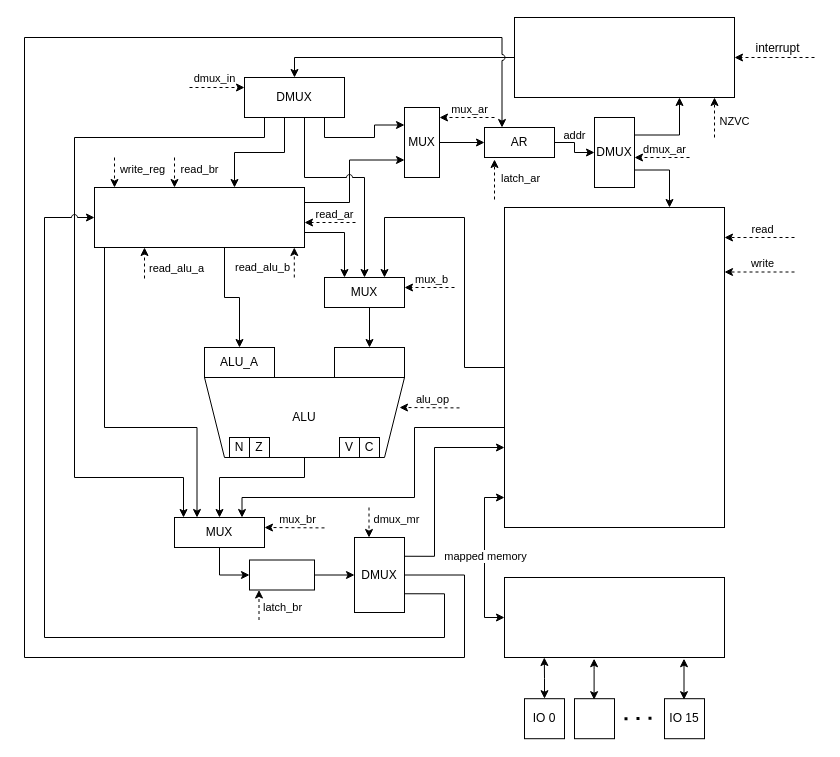
This 840x757 diagram has some shape labels left out. The shapes that lost their labels are listed below. From the top down, each one's centre as x and y in pixels, then its label:
At pixel 624 57: "Control Unit".
At pixel 199 217: "Register File".
At pixel 369 362: "ALU_B".
At pixel 614 367: "Memory".
At pixel 281 574: "BR".
At pixel 614 617: "IO Controller".
At pixel 594 718: "IO 1".
